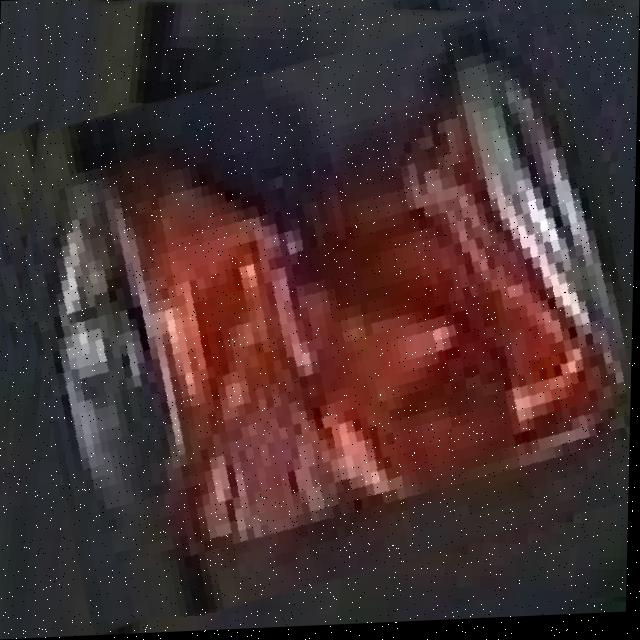litter: (21, 9, 633, 620)
